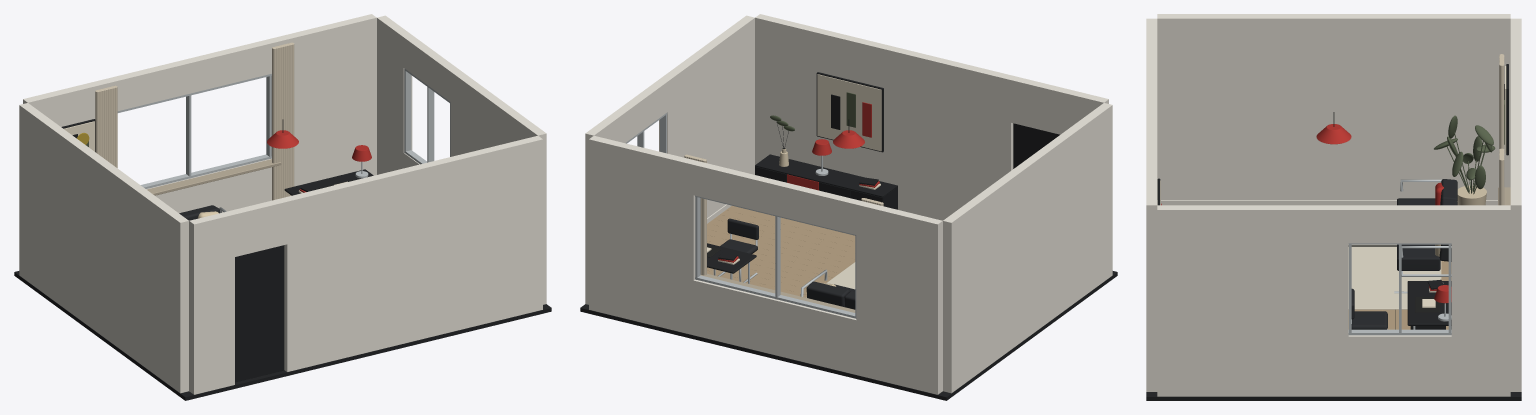
The model's file is space.glb.
3 renders of one model, left to right at view 1: azimuth 30°, elevation 25°; view 2: azimuth 150°, elevation 25°; view 3: azimuth 270°, elevation 25°, orthographic. The views are drawn at different scales.
Visible parts, largest first — view 1: south plaster wall.002, west plaster wall, north plaster wall.003, south plaster wall, Flush timber door, north plaster wall.002, east plaster wall, east plaster wall.003, north plaster wall.001, Continuous subfloor, south plaster wall.001, north plaster wall (+8 smaller); view 2: south plaster wall.002, west plaster wall, north plaster wall.003, north plaster wall, east plaster wall, north plaster wall.001, north plaster wall.002, Sideboard art linen, Continuous subfloor, south plaster wall.001, east plaster wall.002, Top panel 20mm (+18 smaller); view 3: west plaster wall, east plaster wall, east plaster wall.003, east plaster wall.001, east plaster wall.002, south plaster wall.002, Bound wool area rug, north plaster wall.003, Continuous subfloor, Painted baseboard.003, Timber top.001, north plaster wall.002 (+10 smaller).
Boxes of the visible parts, box(x1,y1,x2,y2) form: south plaster wall.002: box(282, 135, 542, 371); west plaster wall: box(19, 103, 188, 393); north plaster wall.003: box(267, 14, 376, 186); south plaster wall: box(189, 211, 234, 394); Flush timber door: box(235, 245, 284, 382); north plaster wall.002: box(104, 39, 272, 110); east plaster wall: box(450, 69, 546, 304); east plaster wall.003: box(377, 15, 412, 174); north plaster wall.001: box(146, 158, 271, 213); Continuous subfloor: box(14, 271, 551, 400); south plaster wall.001: box(230, 198, 287, 256); north plaster wall: box(23, 79, 109, 126); south plaster wall.002: box(755, 14, 1015, 220); west plaster wall: box(943, 103, 1112, 393); north plaster wall.003: box(589, 135, 698, 335); north plaster wall: box(856, 201, 942, 394); east plaster wall: box(659, 15, 754, 217); north plaster wall.001: box(693, 279, 856, 374); north plaster wall.002: box(693, 161, 860, 234); Sideboard art linen: box(817, 74, 881, 151); Continuous subfloor: box(580, 271, 1117, 400); south plaster wall.001: box(1011, 76, 1067, 134); east plaster wall.002: box(612, 79, 667, 142); Top panel 20mm: box(755, 154, 897, 197); west plaster wall: box(1157, 14, 1510, 199); east plaster wall: box(1157, 205, 1348, 396); east plaster wall.003: box(1451, 205, 1510, 396); east plaster wall.001: box(1348, 335, 1451, 396); east plaster wall.002: box(1348, 205, 1451, 243); south plaster wall.002: box(1146, 68, 1157, 391); Bound wool area rug: box(1348, 244, 1441, 309); north plaster wall.003: box(1510, 149, 1521, 391); Continuous subfloor: box(1146, 310, 1521, 400); Painted baseboard.003: box(1161, 200, 1497, 205); Timber top.001: box(1407, 281, 1451, 325); north plaster wall.002: box(1510, 62, 1521, 149).
Bounding box in the file's own units: 6.3 × 2.87 × 5.1.
